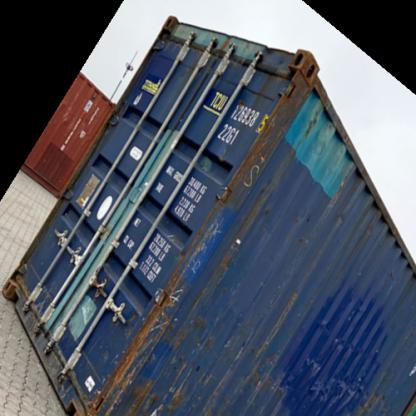Damage: (88, 335, 208, 394), (314, 316, 382, 357), (178, 215, 220, 280), (246, 357, 293, 403), (300, 102, 333, 158), (308, 367, 366, 393), (240, 140, 268, 188), (150, 284, 192, 313), (325, 198, 360, 229), (294, 227, 314, 248)
